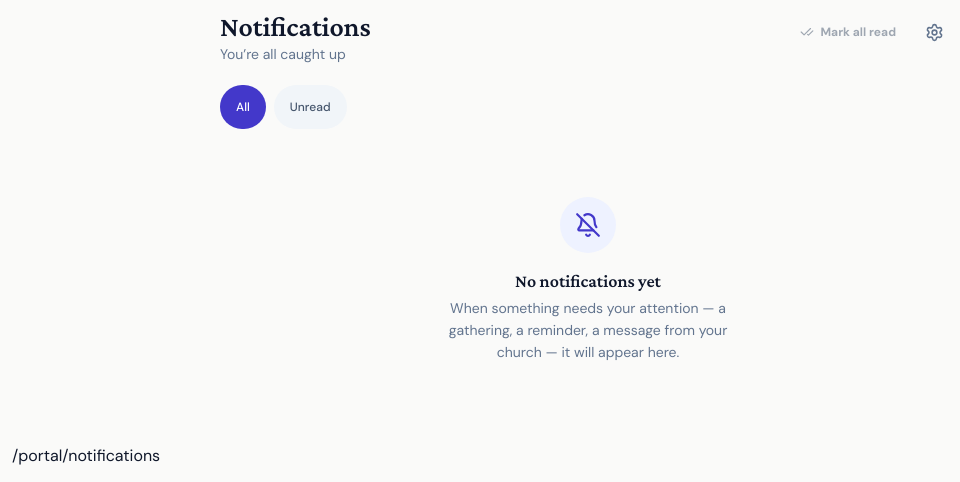
NotificationsInbox › explains an empty inbox, differently for the unread filter
The image size is (960, 482).
Check: the heading "No notifications yet" is shown, box [515,269,661,294]
Step 1. Click the tab "Unread" → (310, 107), box [274,85,346,129]
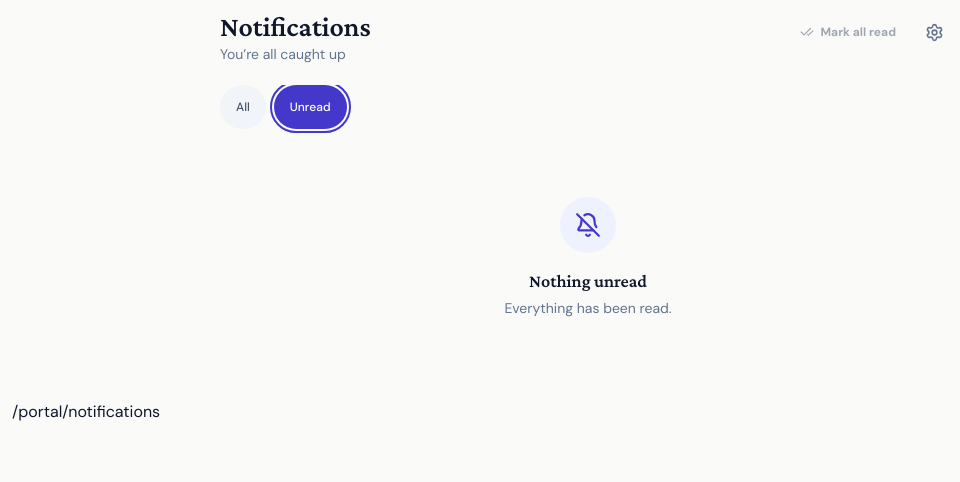
Check: the heading "Nothing unread" is shown, box [529,269,647,294]
